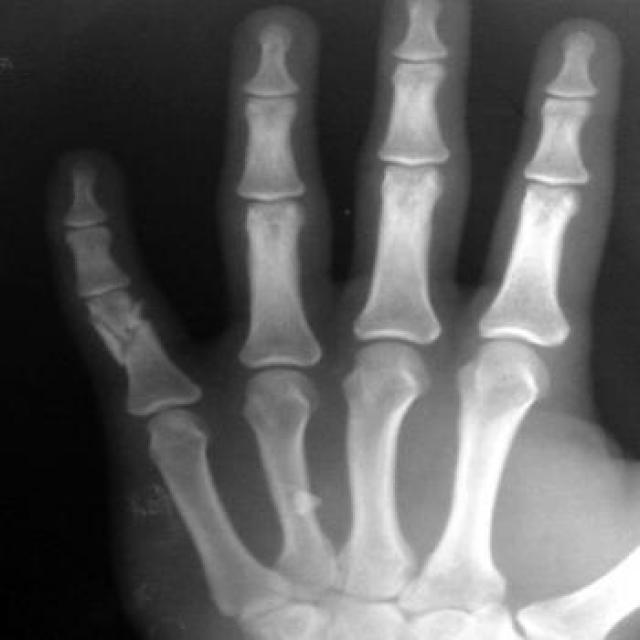Fracture: (70, 296, 176, 368)
